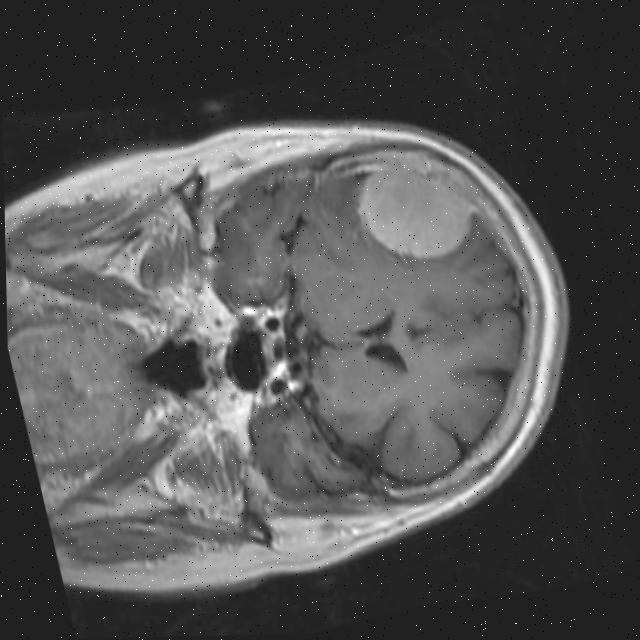Meningioma: (343, 143, 483, 278)
